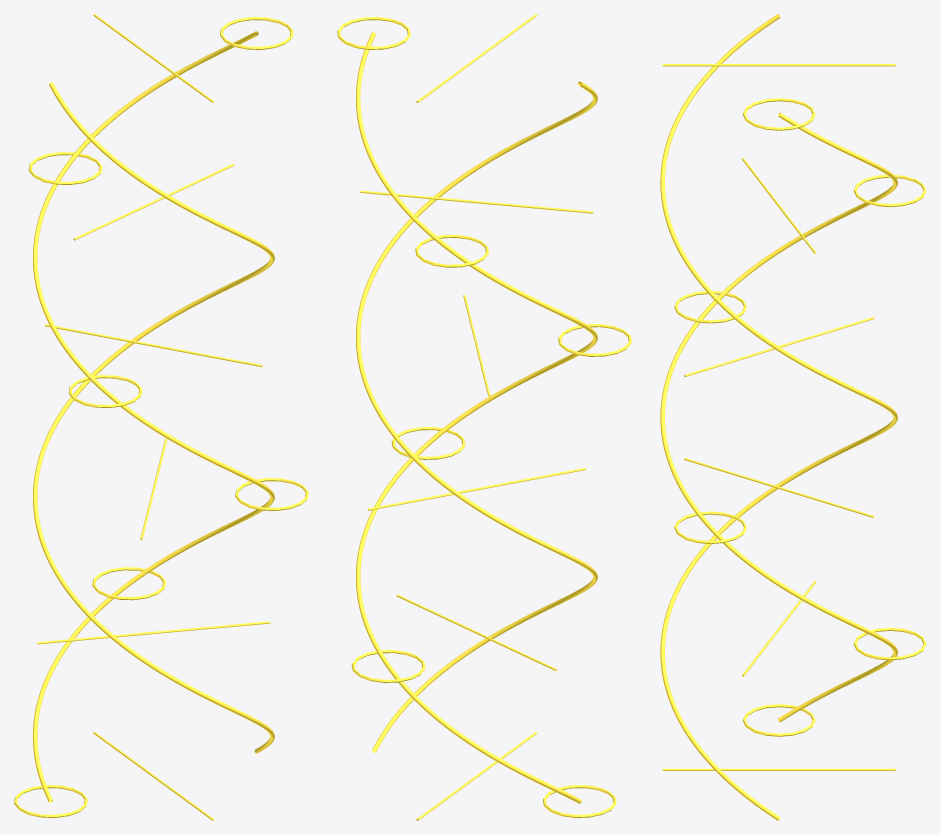
Rendered from nexus_helix.glb.
The picture shows the model from 3 angles, left to right: view 1: azimuth 30°, elevation 25°; view 2: azimuth 150°, elevation 25°; view 3: azimuth 270°, elevation 25°; orthographic projection.
Visible parts, largest first — view 1: NexusHelix; view 2: NexusHelix; view 3: NexusHelix.
Part boxes in pixels (x1=…): NexusHelix: x1=14, y1=14, x2=308, y2=820; NexusHelix: x1=337, y1=14, x2=631, y2=820; NexusHelix: x1=660, y1=14, x2=926, y2=820.
Size of the model in its own units: 7.88 by 20.1 by 6.85.
